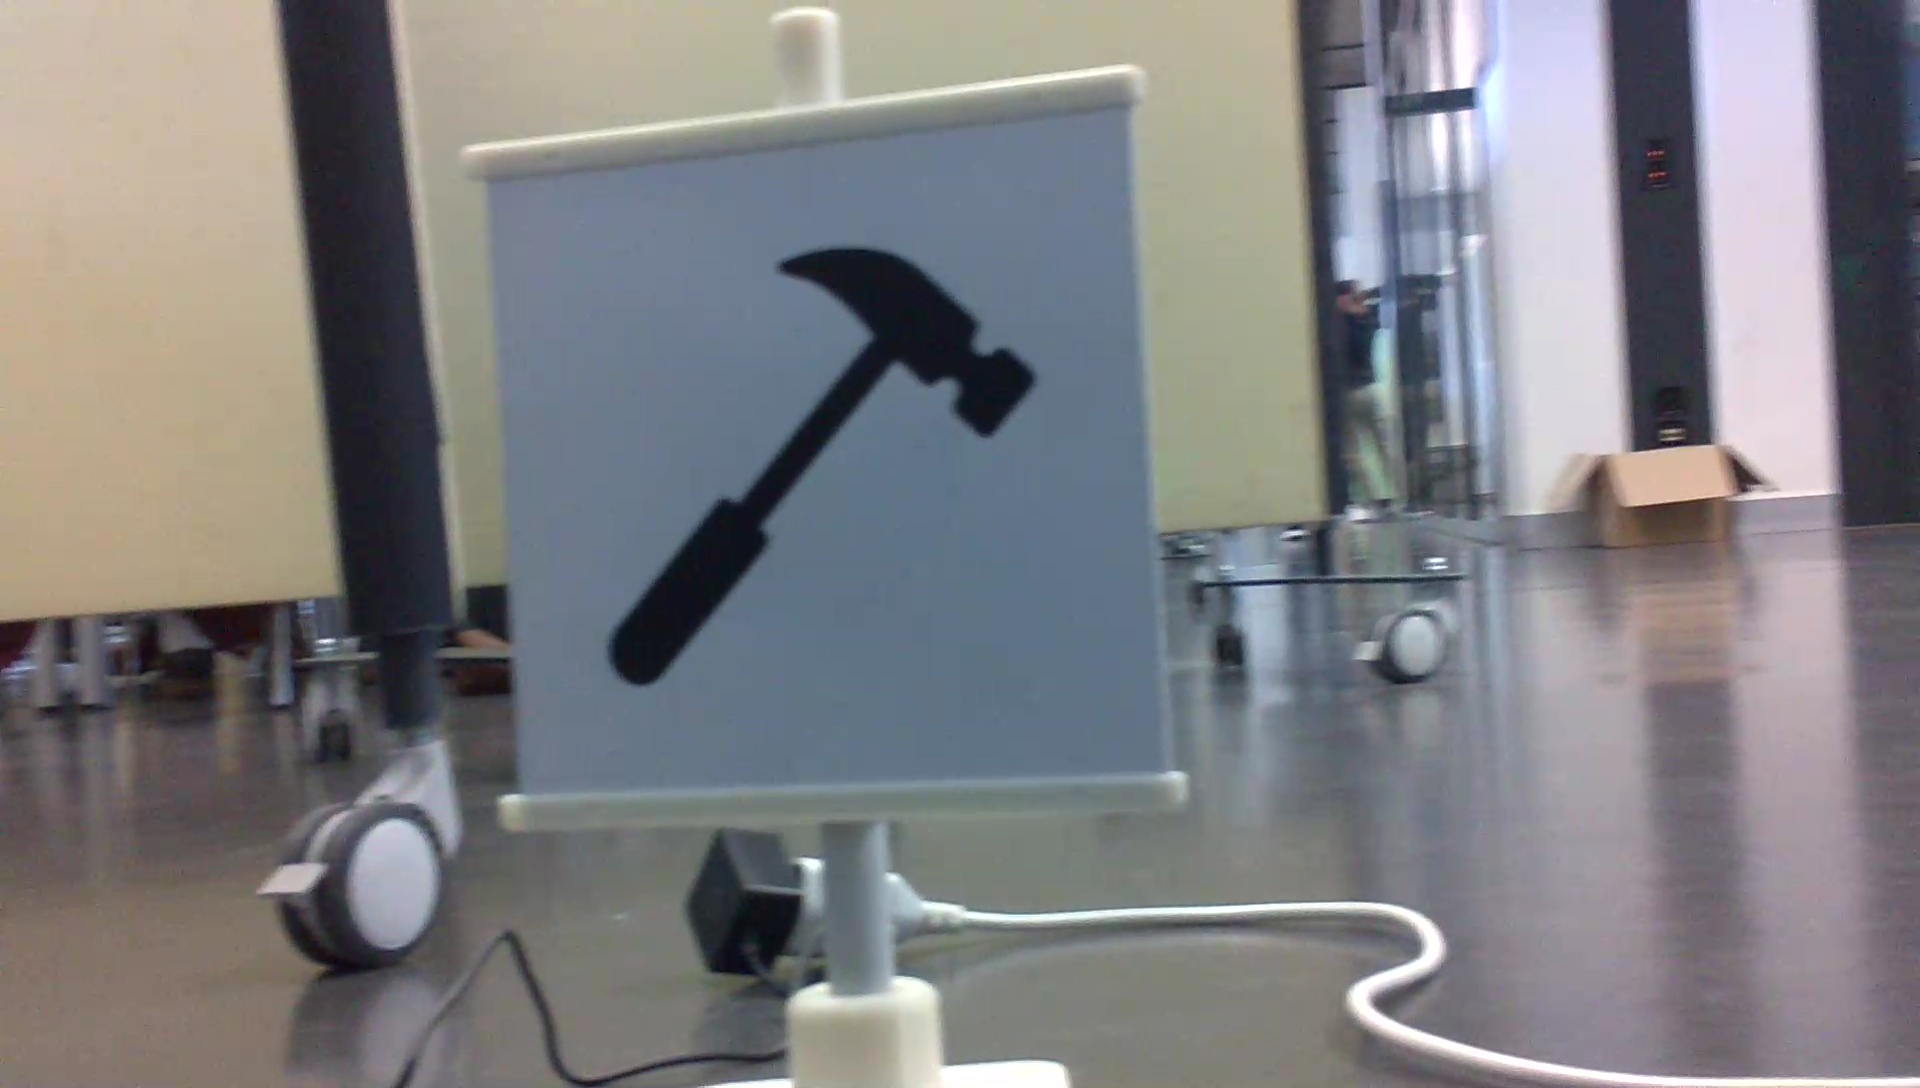hammer: (595, 237, 1040, 698)
